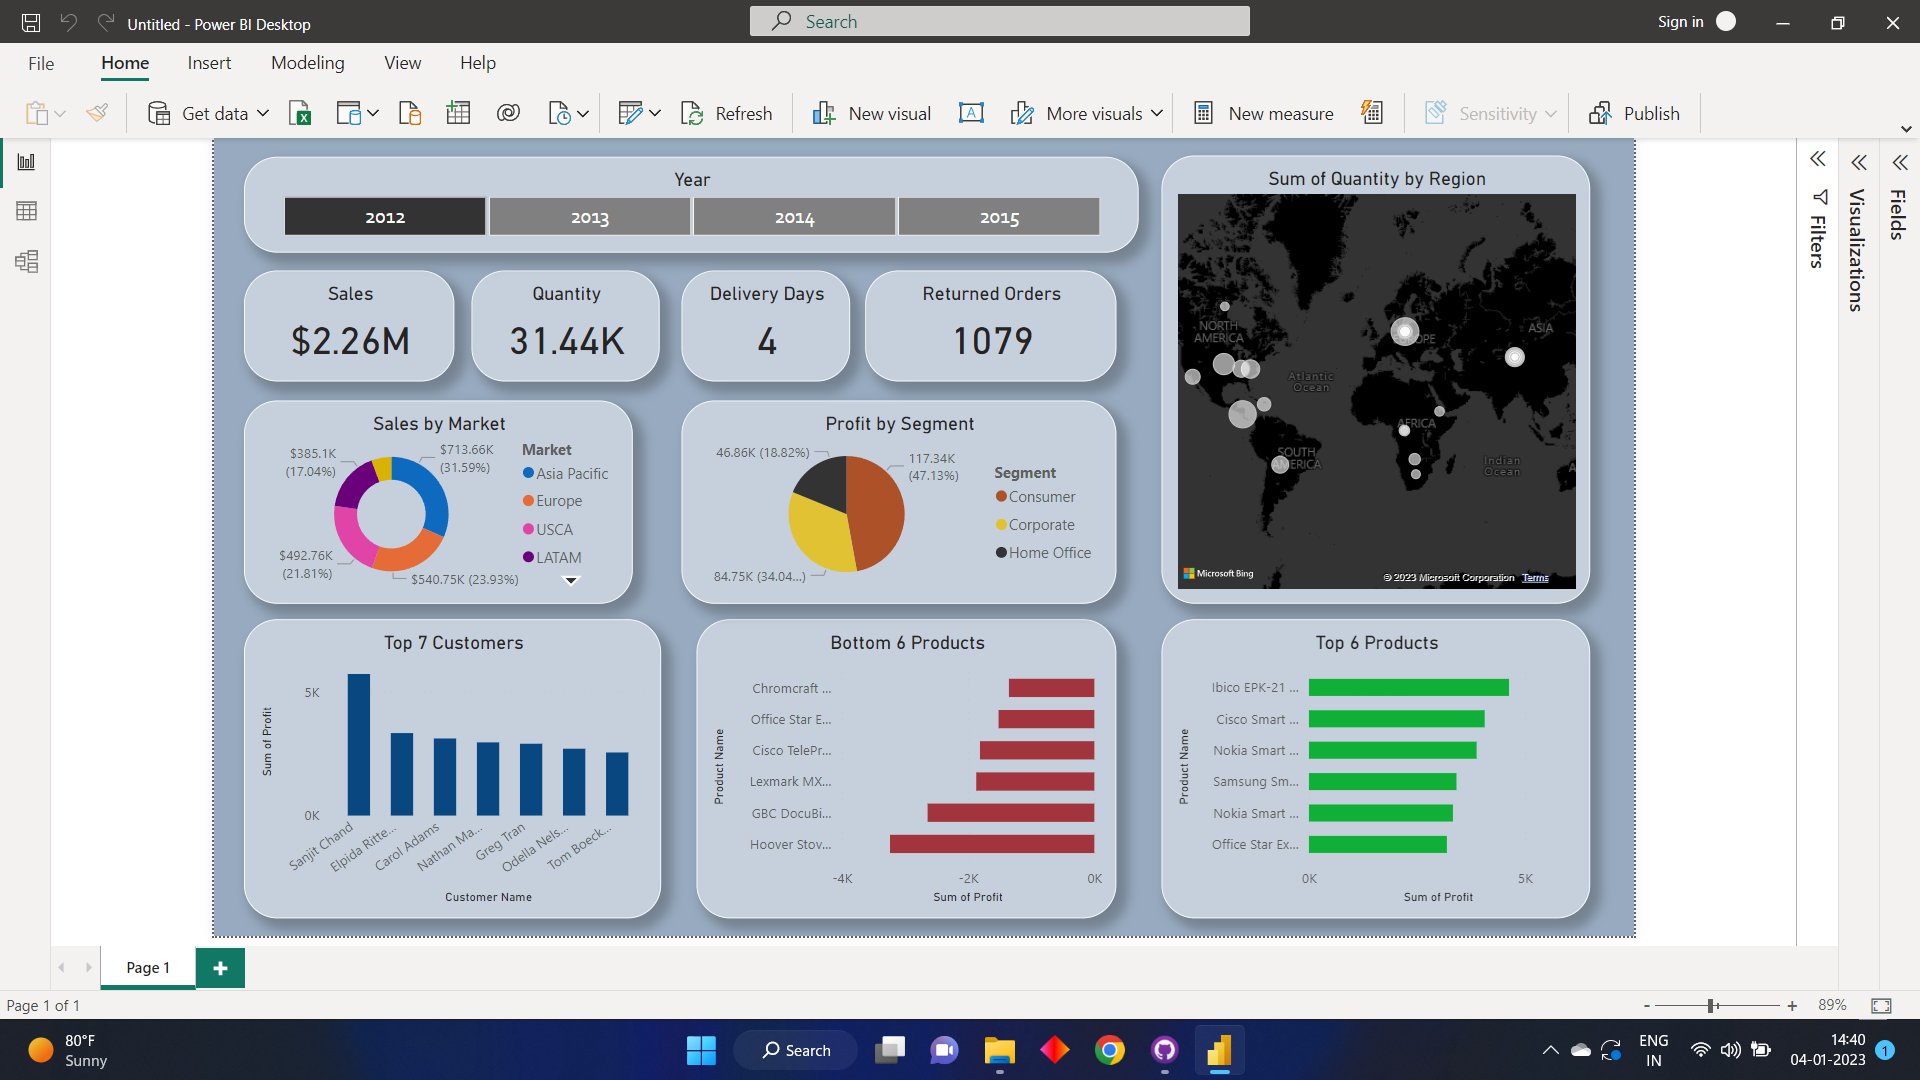

Layout of this report page (visuals, bound fields, positions):
{"tool":"powerbi","page":{"name":"Page 1","canvas":[1280,720],"ordinal":0},"visuals":[{"type":"card","title":"Sales","fields":{"Values":["Orders.Sales"]},"box":[26.9,119.9,190,99.7],"z":0},{"type":"card","title":"Quantity","fields":{"Values":["Orders.Quantity"]},"box":[231.7,119.9,169.8,99.7],"z":1000},{"type":"card","title":"Delivery Days","fields":{"Values":["Orders.Delivery Days"]},"box":[421.7,119.9,152.3,99.7],"z":2000},{"type":"slicer","title":"Year","fields":{"Values":["Orders.Year"]},"box":[27.5,16.5,806.2,86.5],"z":3000},{"type":"card","title":"Returned Orders","fields":{"Values":["Returns.Return Orders"]},"box":[587.5,119.9,226.4,99.7],"z":4000},{"type":"map","fields":{"Category":["Orders.Region"],"Size":["Orders.Quantity"]},"box":[854.2,16.2,386.7,404.2],"z":5000},{"type":"clusteredBarChart","title":"Top 6 Products","fields":{"Category":["Orders.Product Name"],"Y":["Orders.Profit"]},"box":[854.2,433.9,386.7,269.5],"z":6000},{"type":"clusteredBarChart","title":"Bottom 6 Products","fields":{"Category":["Orders.Product Name"],"Y":["Orders.Profit"]},"box":[435.2,433.9,378.6,269.5],"z":7000},{"type":"donutChart","title":"Sales by Market","fields":{"Category":["Orders.Market","Orders.Region"],"Y":["Orders.Sales"]},"box":[26.9,237.1,350.3,183.2],"z":8000},{"type":"pieChart","title":"Profit by Segment","fields":{"Category":["Orders.Segment"],"Y":["Orders.Profit"]},"box":[421.7,237.1,392.1,183.2],"z":9000},{"type":"columnChart","title":"Top 7 Customers","fields":{"Category":["Orders.Customer Name"],"Y":["Orders.Profit"]},"box":[26.9,433.9,375.9,269.5],"z":10000}]}

Visuals, with their boxes on the page's 1280x720 design canvas (x1, y1, x2, y2). These are canvas units, not pixel positions in the 1920x1080 screenshot, which may show the page scaled, cropped or inside an application window:
"Sales" card: bbox=(27, 120, 217, 220)
"Quantity" card: bbox=(232, 120, 402, 220)
"Delivery Days" card: bbox=(422, 120, 574, 220)
"Year" slicer: bbox=(28, 16, 834, 103)
"Returned Orders" card: bbox=(588, 120, 814, 220)
map - Orders.Region x Orders.Quantity: bbox=(854, 16, 1241, 420)
"Top 6 Products" clusteredBarChart: bbox=(854, 434, 1241, 703)
"Bottom 6 Products" clusteredBarChart: bbox=(435, 434, 814, 703)
"Sales by Market" donutChart: bbox=(27, 237, 377, 420)
"Profit by Segment" pieChart: bbox=(422, 237, 814, 420)
"Top 7 Customers" columnChart: bbox=(27, 434, 403, 703)
